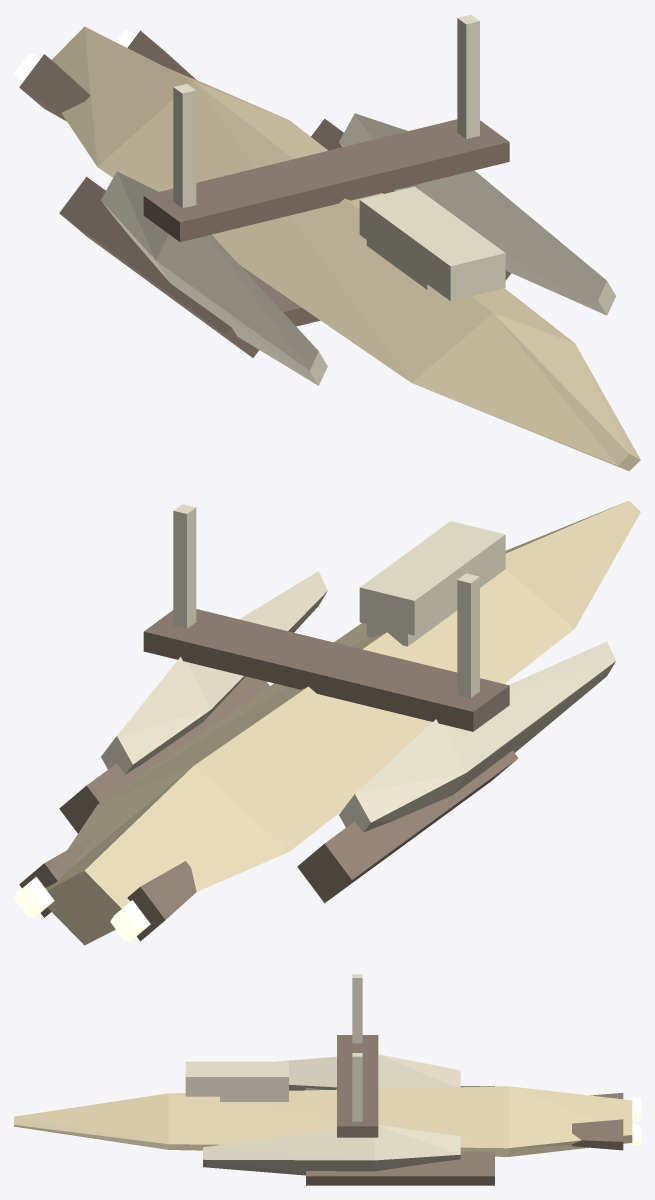
The picture shows the model from 3 angles, top to bottom: view 1: azimuth 30°, elevation 25°; view 2: azimuth 150°, elevation 25°; view 3: azimuth 270°, elevation 25°; orthographic projection. The views are drawn at different scales.
Size of the model in its own units: 2.76 by 2 by 8.03.
